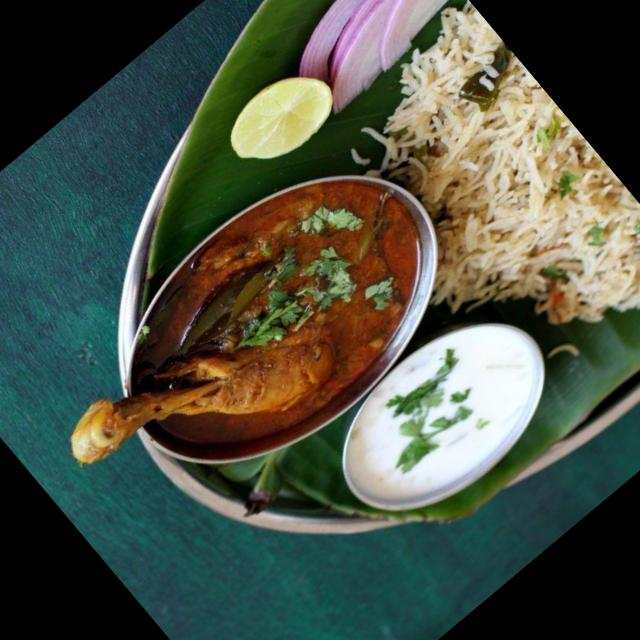chicken: (60, 166, 434, 520)
rice: (357, 10, 640, 344)
